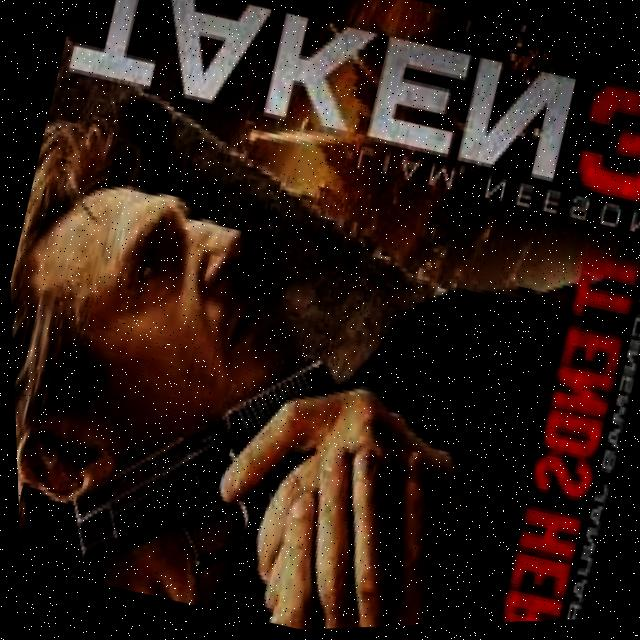pistol: (49, 310, 342, 616)
